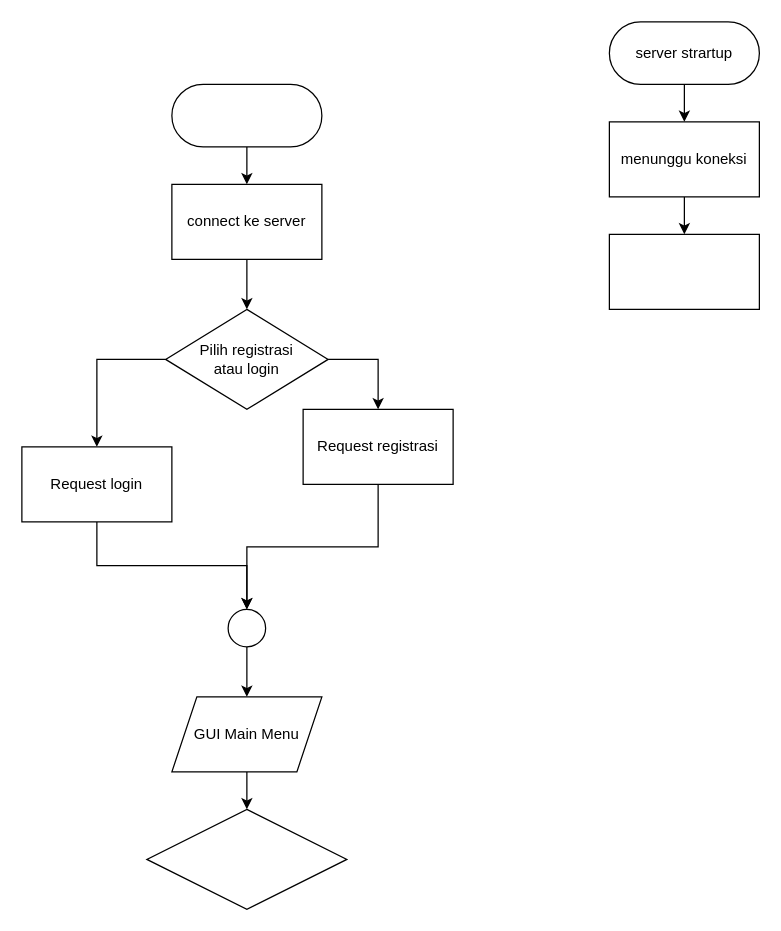
Some shapes in this 781 by 931 pixel diagram are drawn without their labels. The centre of each missing label's shape, as x and y in pixels:
Apa yang dipilih: (x=246, y=858)
Beri client prompt registrasi: (x=683, y=271)
client startup: (x=246, y=115)
